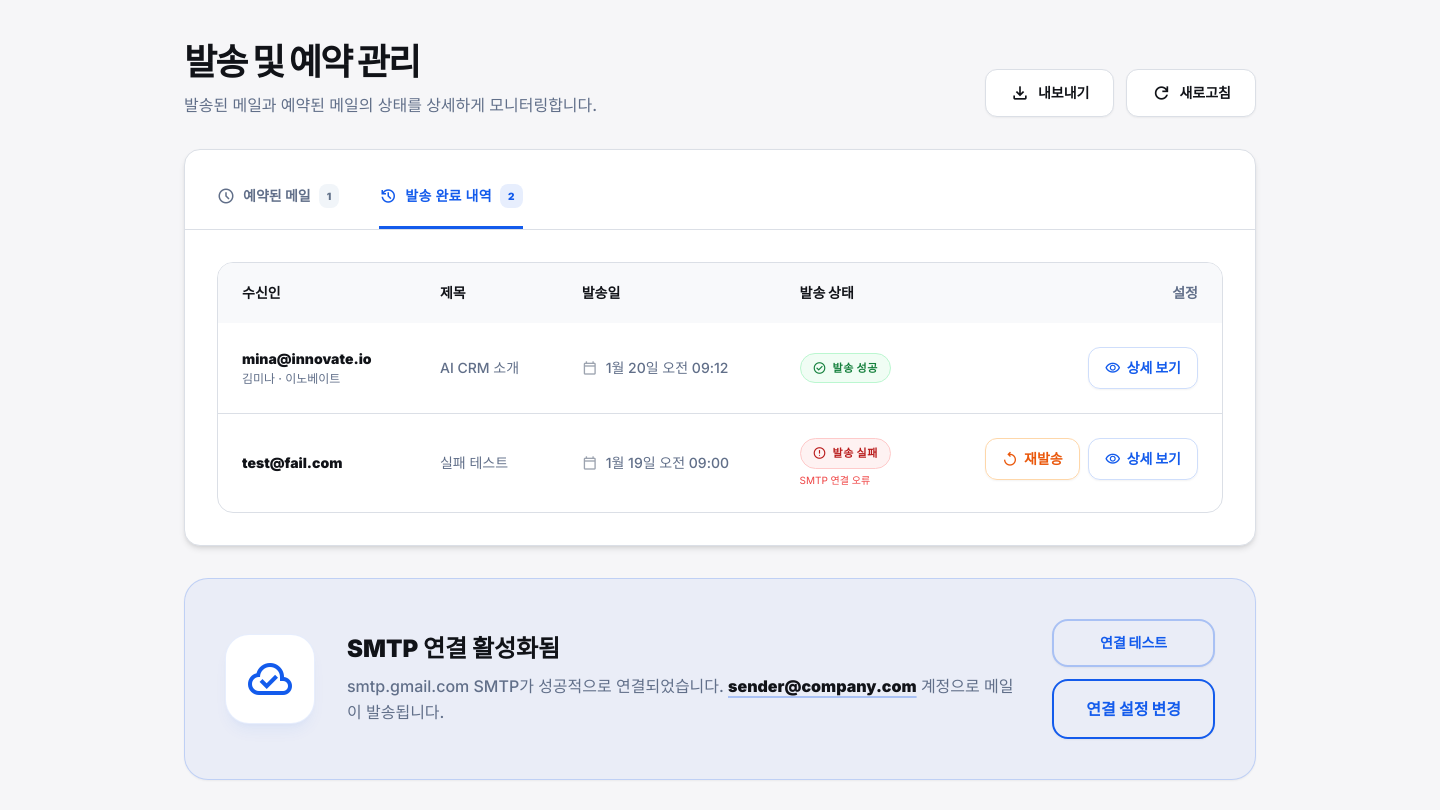
Test case: EmailManagement › 발송 기록 상세 모달 › 상세 보기 버튼 클릭 시 모달이 열린다
Expected: the text "AI CRM 소개" is shown, [416, 323, 558, 414]
Click the button "상세 보기" in the row of "mina@innovate.io" at (1143, 368), box [1088, 347, 1198, 389]
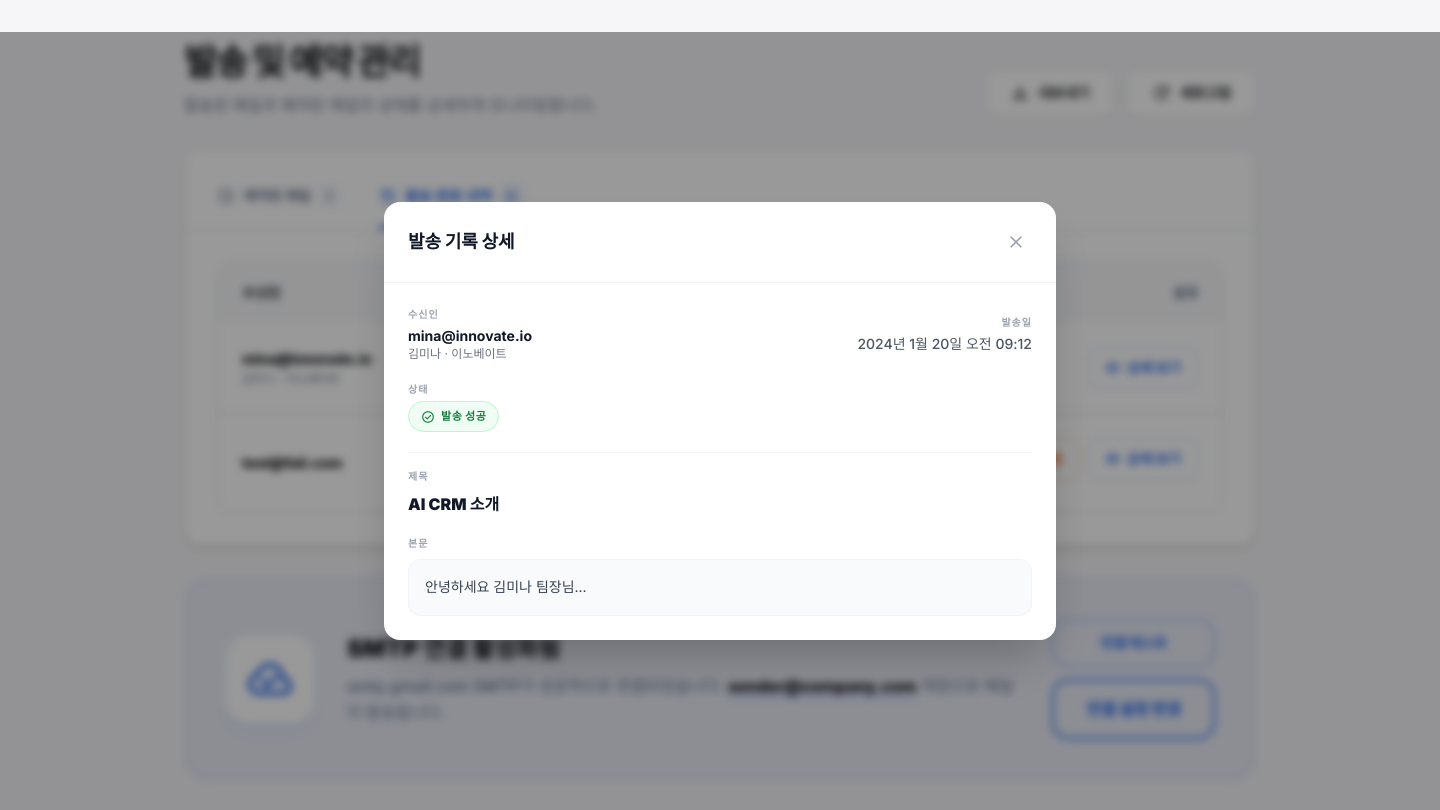
Now the heading "발송 기록 상세" is shown, box [408, 228, 514, 256]
